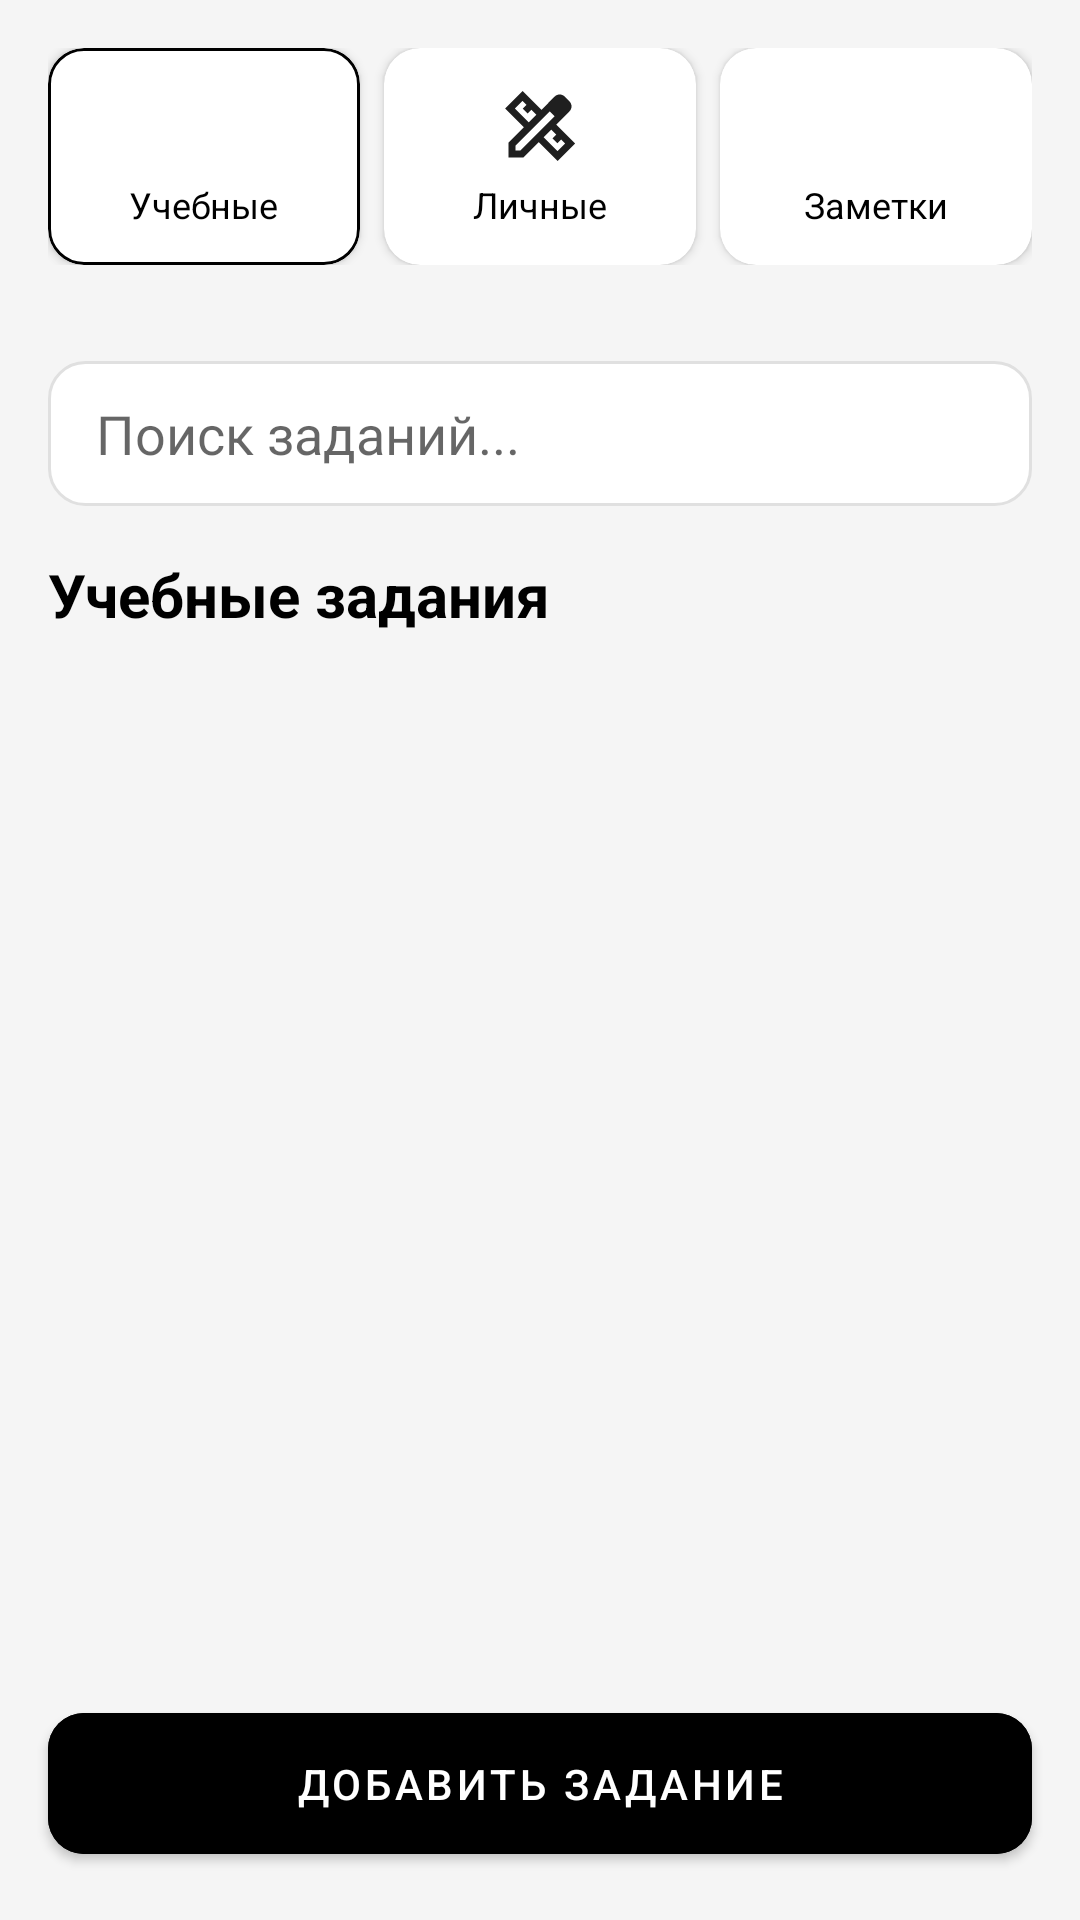

Where icons sit on this 1080x1920 app screen, as (x1, y1, x2, y2):
design services: (505, 91, 575, 161)
